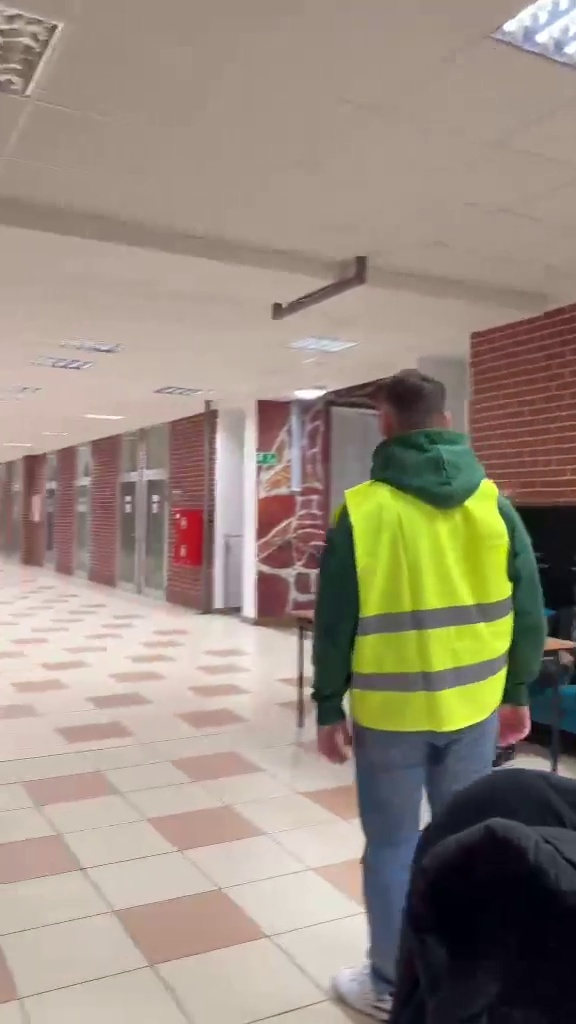vest: (317, 360, 538, 1014)
